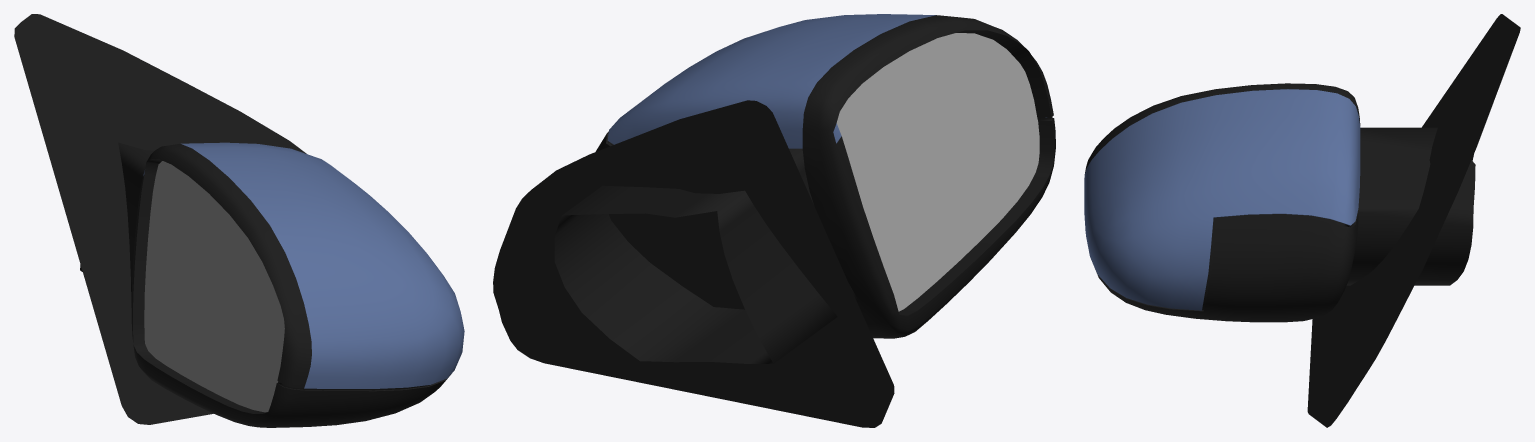
3 views of the same model, side by side, from view 1: azimuth 30°, elevation 25°; view 2: azimuth 150°, elevation 25°; view 3: azimuth 270°, elevation 25° (orthographic). The views are drawn at different scales.
Parts seen in each view (by area): view 1: U236_17_281I_R_U236_17_281I_R_4_D, U236_17_281I_R_U236_17_281I_R_1_DaS, U236_17_281I_R_U236_17_281I_R_5_DTaSI, U236_17_281I_R_U236_17_281I_R_2_D, U236_17_281I_R_6_D_U236_17_281I_R, U236_17_281I_R_U236_17_281I_R_3_D; view 2: U236_17_281I_R_U236_17_281I_R_4_D, U236_17_281I_R_U236_17_281I_R_5_DTaSI, U236_17_281I_R_U236_17_281I_R_3_D, U236_17_281I_R_U236_17_281I_R_1_DaS, U236_17_281I_R_U236_17_281I_R_2_D, U236_17_281I_R_6_D_U236_17_281I_R; view 3: U236_17_281I_R_U236_17_281I_R_1_DaS, U236_17_281I_R_U236_17_281I_R_4_D, U236_17_281I_R_U236_17_281I_R_2_D, U236_17_281I_R_U236_17_281I_R_3_D, U236_17_281I_R_6_D_U236_17_281I_R.
Boxes of the visible parts, <box> form: U236_17_281I_R_U236_17_281I_R_4_D: <box>14,14,306,424</box>; U236_17_281I_R_U236_17_281I_R_1_DaS: <box>143,142,464,388</box>; U236_17_281I_R_U236_17_281I_R_5_DTaSI: <box>144,161,284,412</box>; U236_17_281I_R_U236_17_281I_R_2_D: <box>131,174,450,427</box>; U236_17_281I_R_6_D_U236_17_281I_R: <box>144,143,311,388</box>; U236_17_281I_R_U236_17_281I_R_3_D: <box>80,142,154,307</box>; U236_17_281I_R_U236_17_281I_R_4_D: <box>493,100,894,427</box>; U236_17_281I_R_U236_17_281I_R_5_DTaSI: <box>836,33,1039,311</box>; U236_17_281I_R_U236_17_281I_R_3_D: <box>554,148,858,363</box>; U236_17_281I_R_U236_17_281I_R_1_DaS: <box>607,14,1046,148</box>; U236_17_281I_R_U236_17_281I_R_2_D: <box>595,117,1055,338</box>; U236_17_281I_R_6_D_U236_17_281I_R: <box>802,15,1053,148</box>; U236_17_281I_R_U236_17_281I_R_1_DaS: <box>1084,89,1360,310</box>; U236_17_281I_R_U236_17_281I_R_4_D: <box>1307,14,1520,427</box>; U236_17_281I_R_U236_17_281I_R_2_D: <box>1095,210,1358,322</box>; U236_17_281I_R_U236_17_281I_R_3_D: <box>1346,127,1475,285</box>; U236_17_281I_R_6_D_U236_17_281I_R: <box>1085,83,1360,172</box>.
Bounding box in the file's own units: 21.52 × 23.77 × 31.55.
